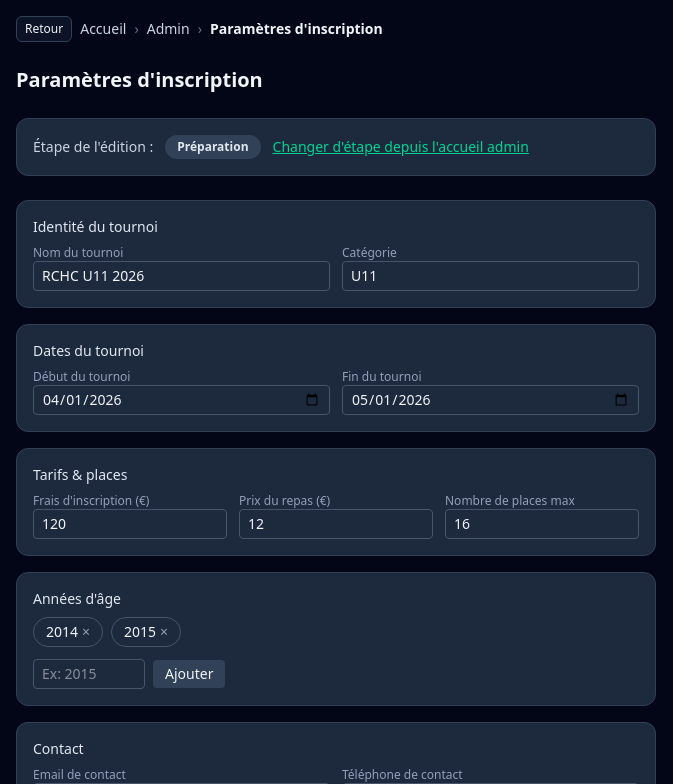
Test: ParametresInscriptionPage — paramètres figés dès l'ouverture (spec § 2.5, CA 5 et 6) › 409 sur l'ajout d'une année d'âge : resynchronisation de l'édition
Type "2016" into the number field with placeholder "Ex: 2015" at (89, 674), box [33,659,145,689]
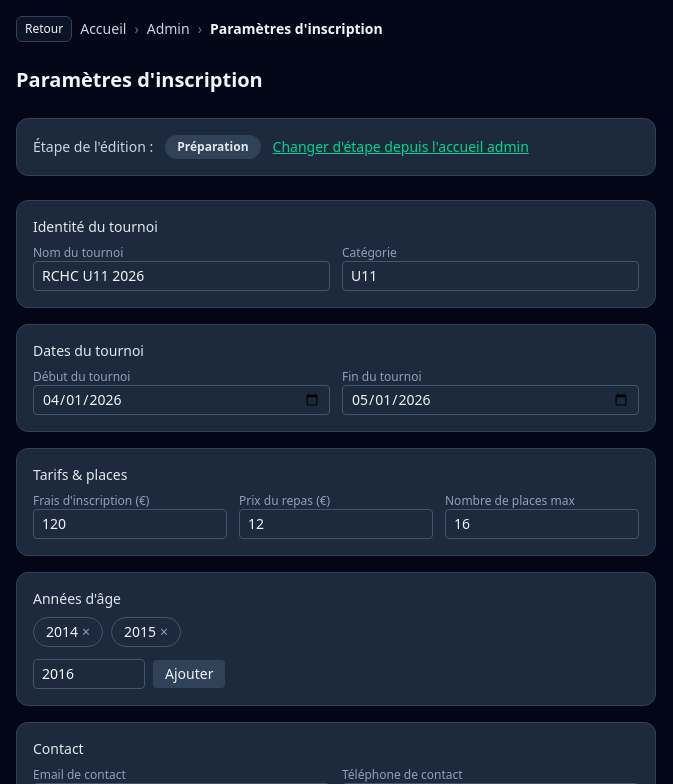
Click the button "Ajouter" at (189, 674), box [153,660,225,688]
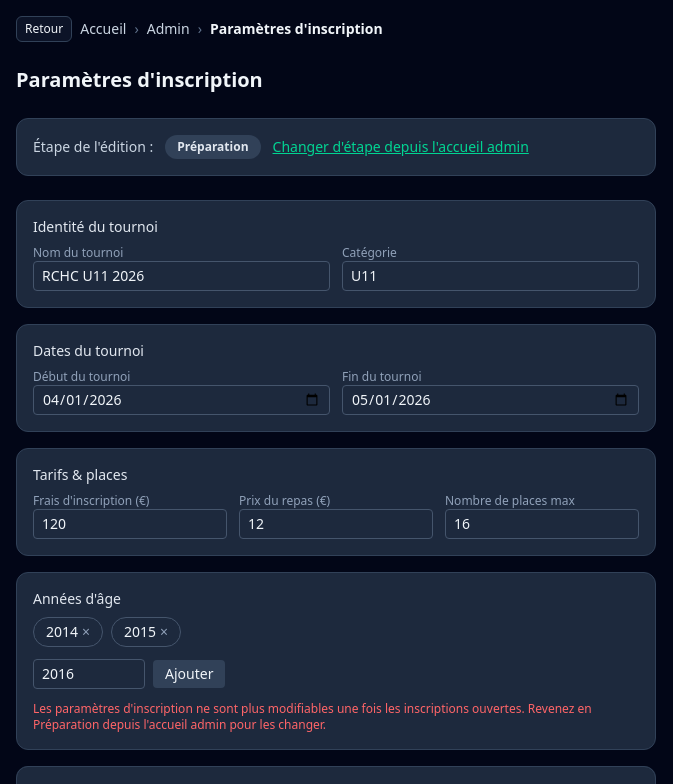
Check: the text "Les paramètres d'inscription ne sont plus modifiables une fois les inscriptions ouvertes. Revenez en Préparation depuis " is shown, box [33,700,592,733]
